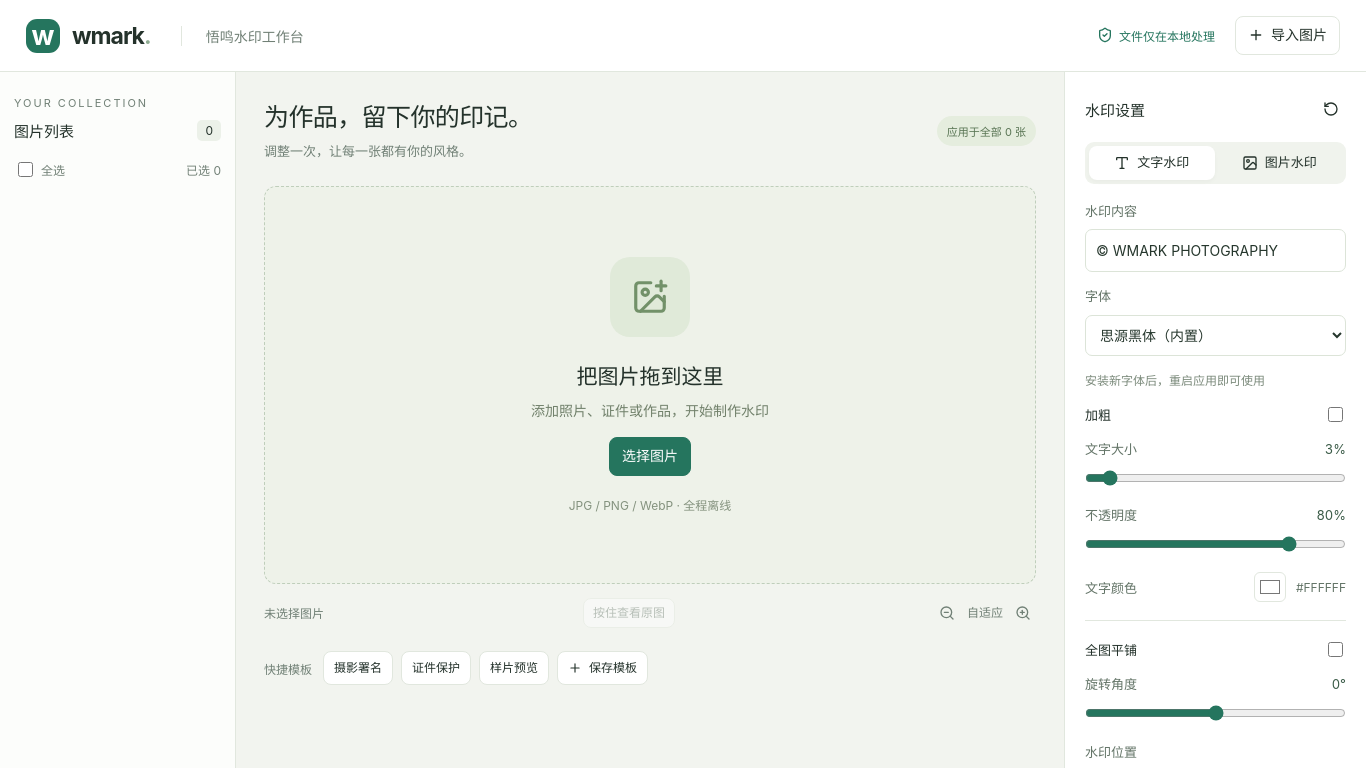
Test: R01 import failure is surfaced and import remains available
What coordinates should you click on to do the following:
click the button "选择图片"
I would click on:
 (650, 456)
Its box is x1=609 y1=437 x2=691 y2=476.
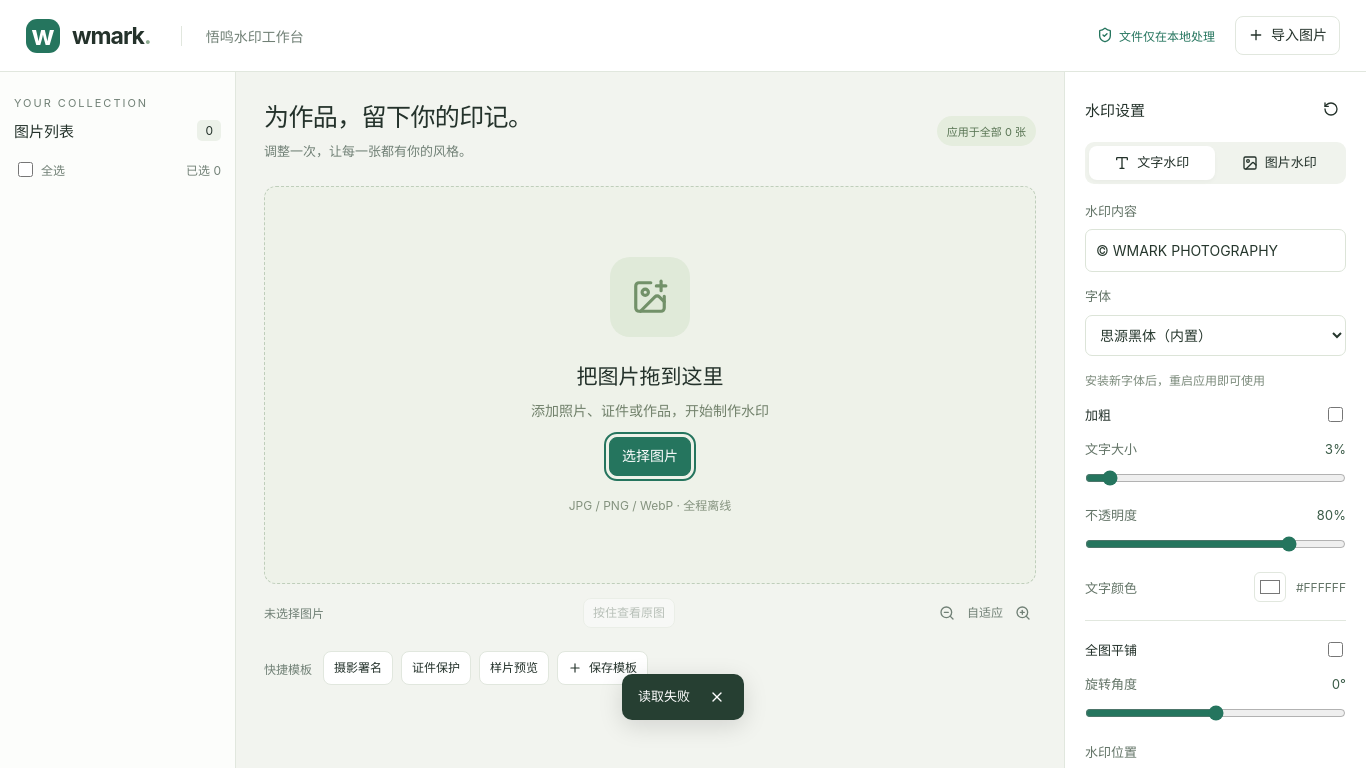
Expected: the button "导入图片" is enabled, x1=1235 y1=16 x2=1340 y2=55
Expected: the text "读取失败" is shown, x1=638 y1=687 x2=690 y2=707
